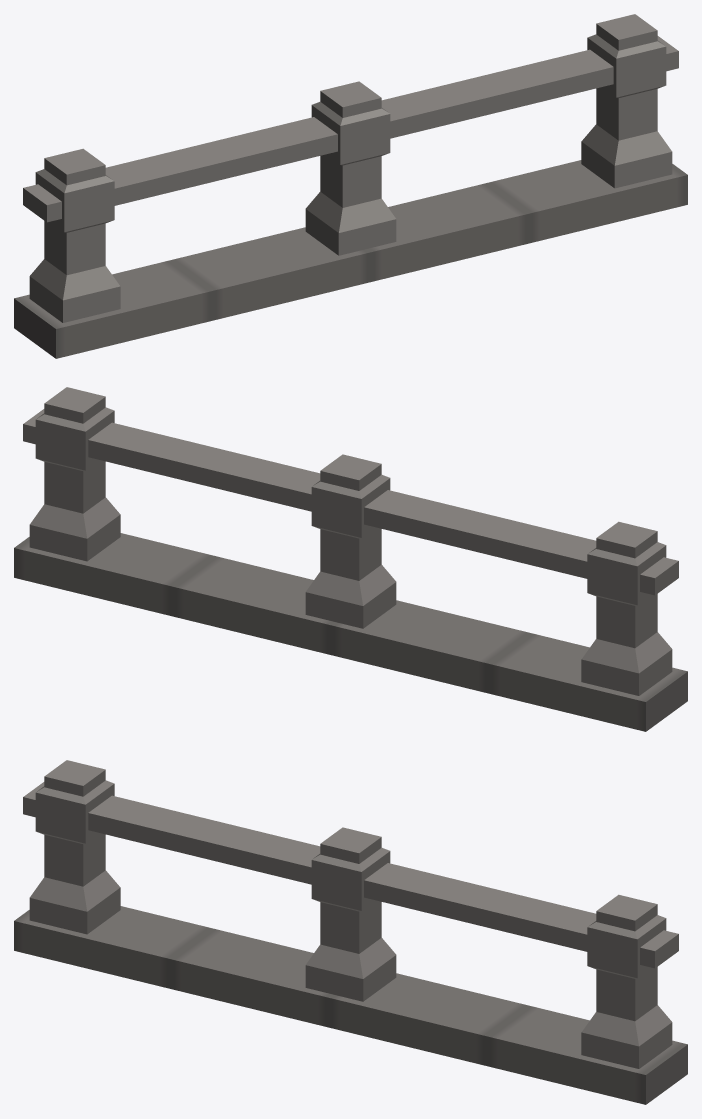
File: SD_Env_Railing_Stone_01.fbx
The picture shows the model from 3 angles, top to bottom: view 1: azimuth 30°, elevation 25°; view 2: azimuth 150°, elevation 25°; view 3: azimuth 330°, elevation 25°; orthographic projection.
Visible parts, largest first — view 1: SD_Env_Railing_Stone_01; view 2: SD_Env_Railing_Stone_01; view 3: SD_Env_Railing_Stone_01.
Boxes of the visible parts, x1,y1,x2,y2 form: SD_Env_Railing_Stone_01: [14, 14, 687, 358]; SD_Env_Railing_Stone_01: [14, 387, 687, 731]; SD_Env_Railing_Stone_01: [14, 760, 687, 1104].
Bounding box in the file's own units: 5 × 1.3 × 0.5761.
